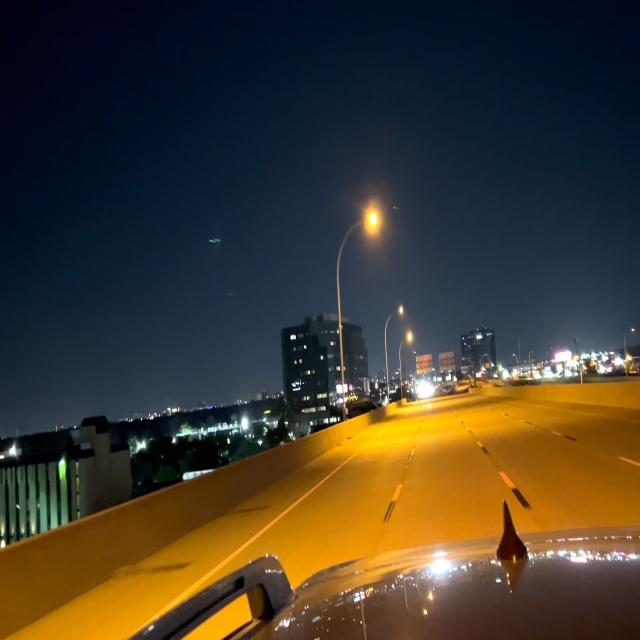back-of-sign: (438, 349, 456, 373), (416, 353, 434, 376)
